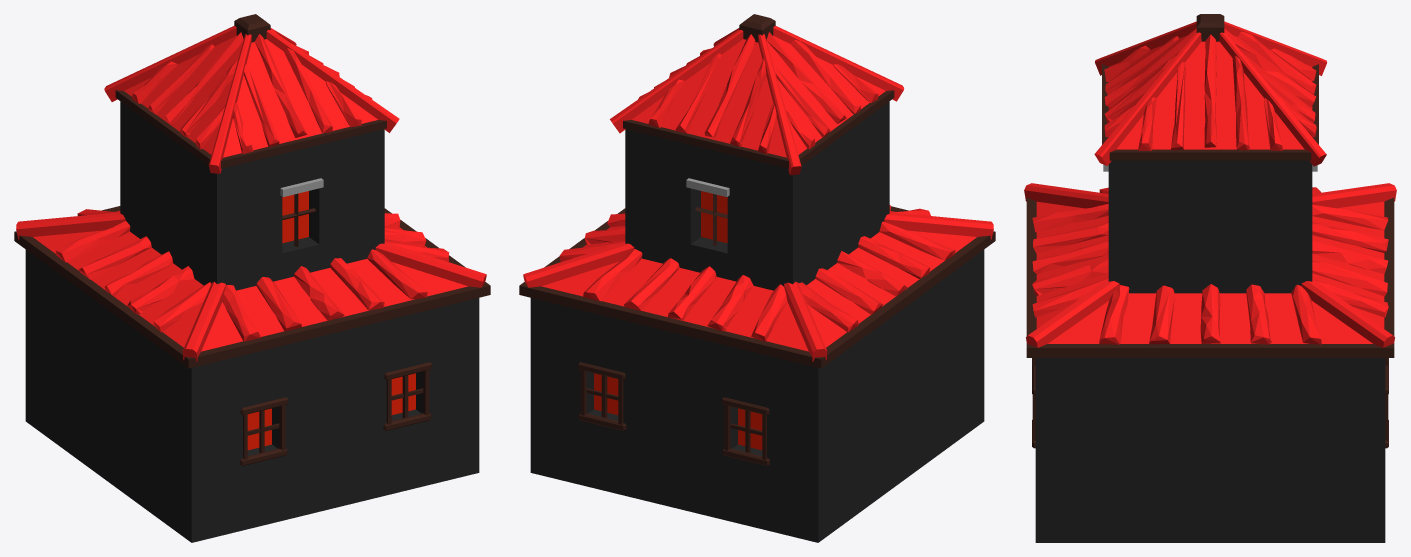
The model's file is roof_building_3.FBX.
3 renders of one model, left to right at view 1: azimuth 30°, elevation 25°; view 2: azimuth 150°, elevation 25°; view 3: azimuth 270°, elevation 25°, orthographic. The views are drawn at different scales.
Parts seen in each view (by area): view 1: roof_building_3; view 2: roof_building_3; view 3: roof_building_3.
Part boxes in pixels (bbox=[...]): roof_building_3: bbox=[14, 14, 490, 542]; roof_building_3: bbox=[519, 14, 995, 542]; roof_building_3: bbox=[1024, 14, 1396, 542].
Size of the model in its own units: 339 by 455 by 341.
